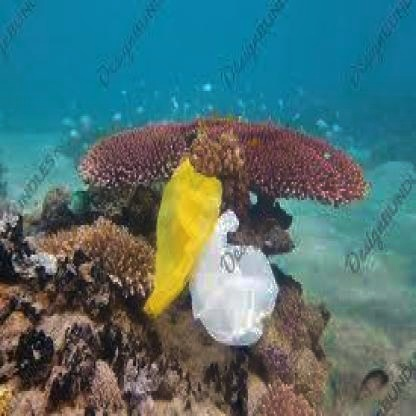pbag: (145, 154, 221, 332), (189, 207, 283, 348)
